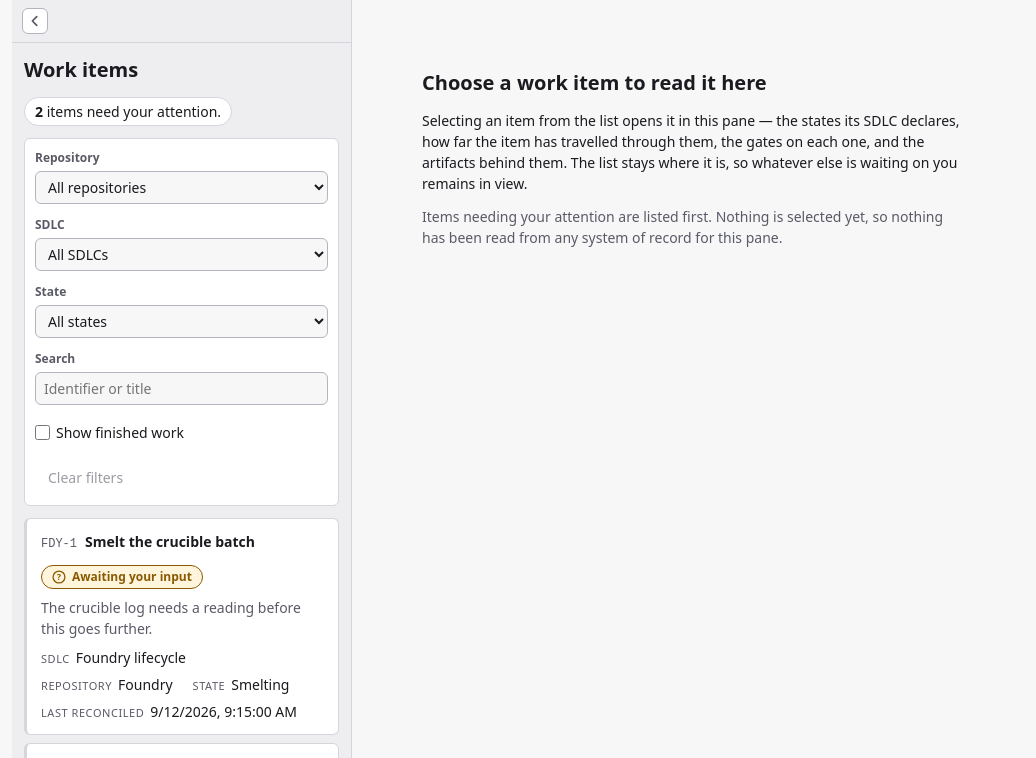
the two-pane workbench › still reports how many items need attention while collapsed, whatever the filters hide
Expected: the text "FDY-1" is shown, [41,535,77,553]
Select "Foundry" in the dropdown labelled "Repository" at x=182, y=188, box [35,171,328,204]
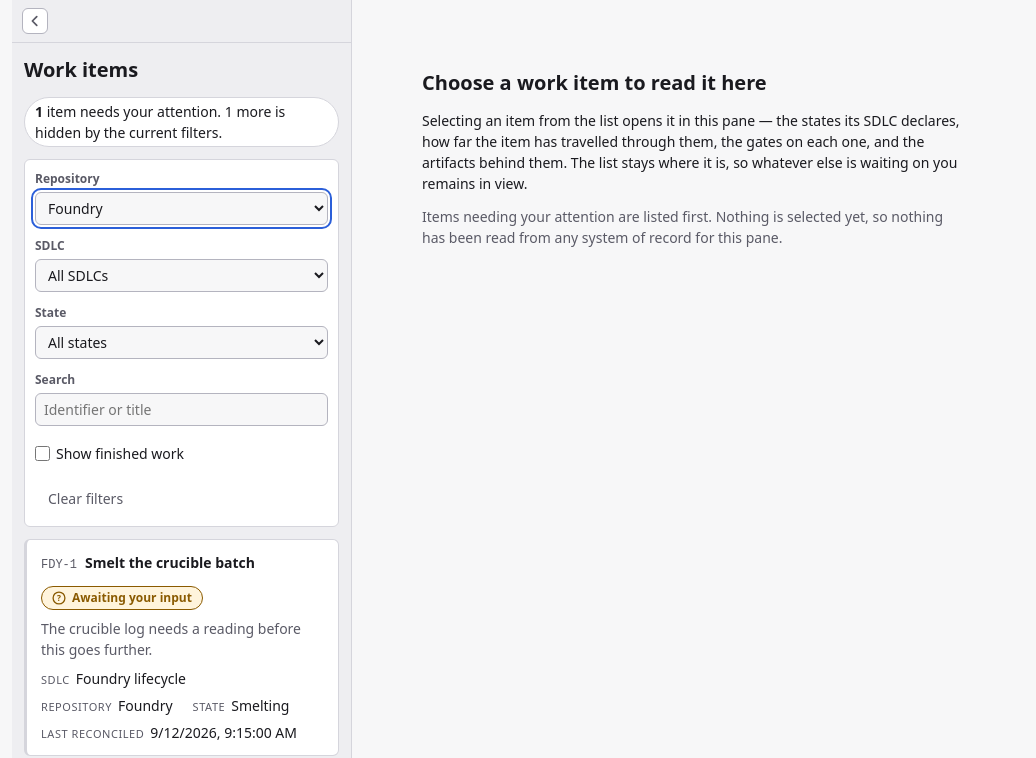
Click the button named "Hide the work item list" at x=35, y=21, box [22,8,48,34]
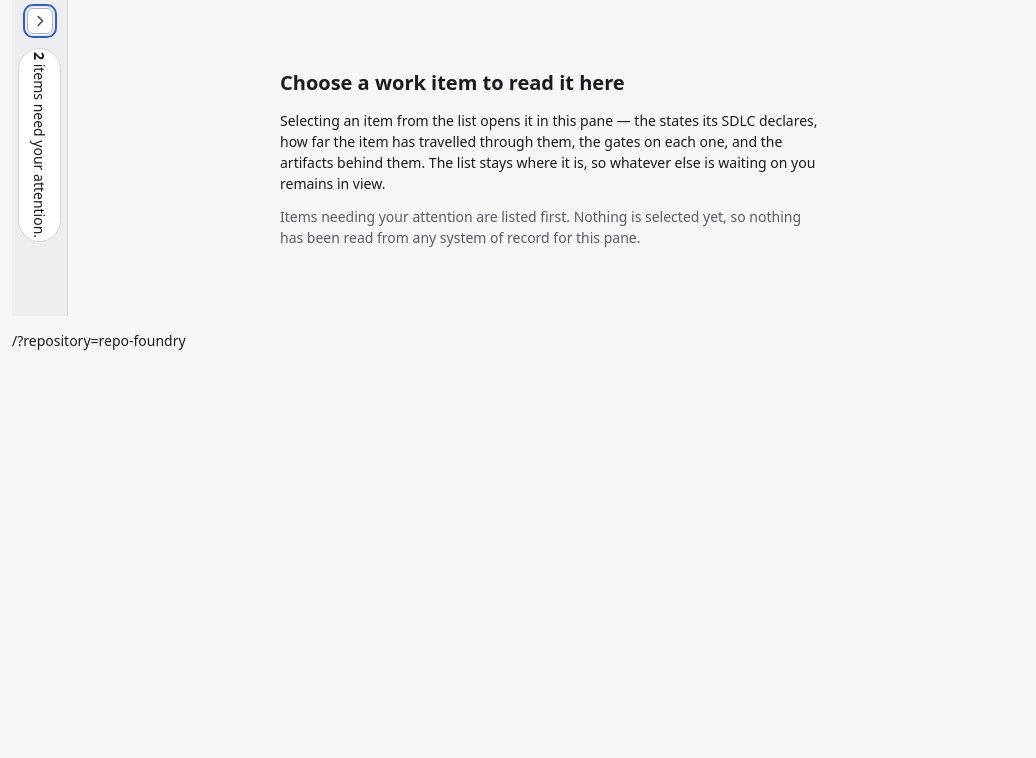
Expected: the number of messages is 1, [18,48,61,242]
Expected: the message shows "2", [30,52,49,60]
Expected: the message shows "items need your attention", [30,60,49,238]
